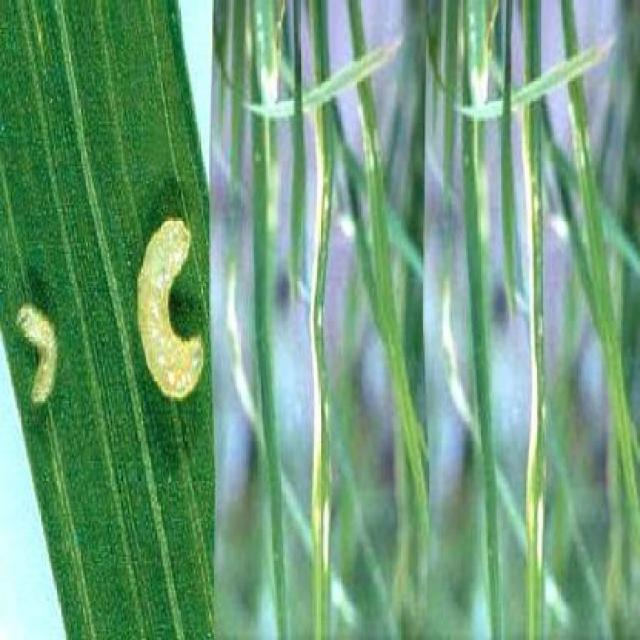whorl-maggot: (132, 203, 208, 409), (17, 280, 61, 414)
